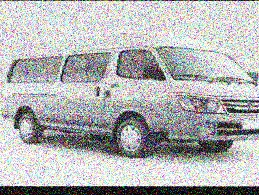van: (1, 27, 259, 154)
